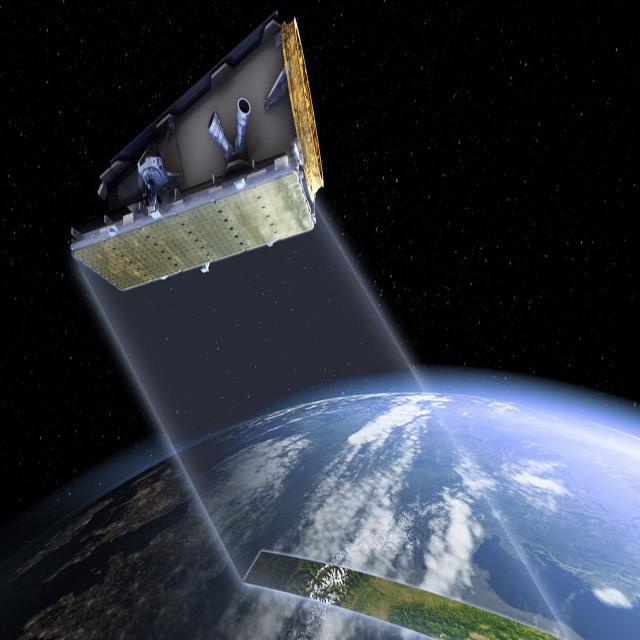sat: (66, 16, 339, 302)
